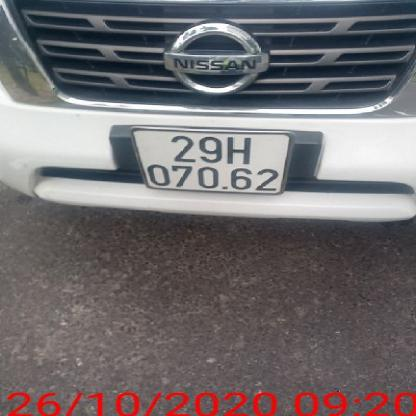biensoxe: (132, 121, 290, 206)
